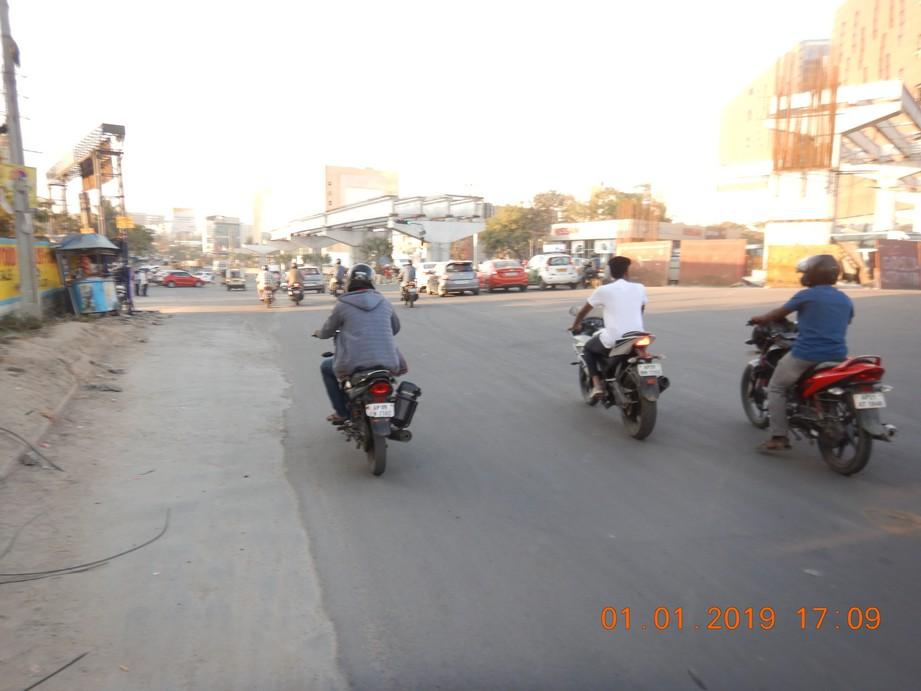plate: (854, 392, 886, 409), (637, 360, 664, 378), (366, 402, 395, 418)
